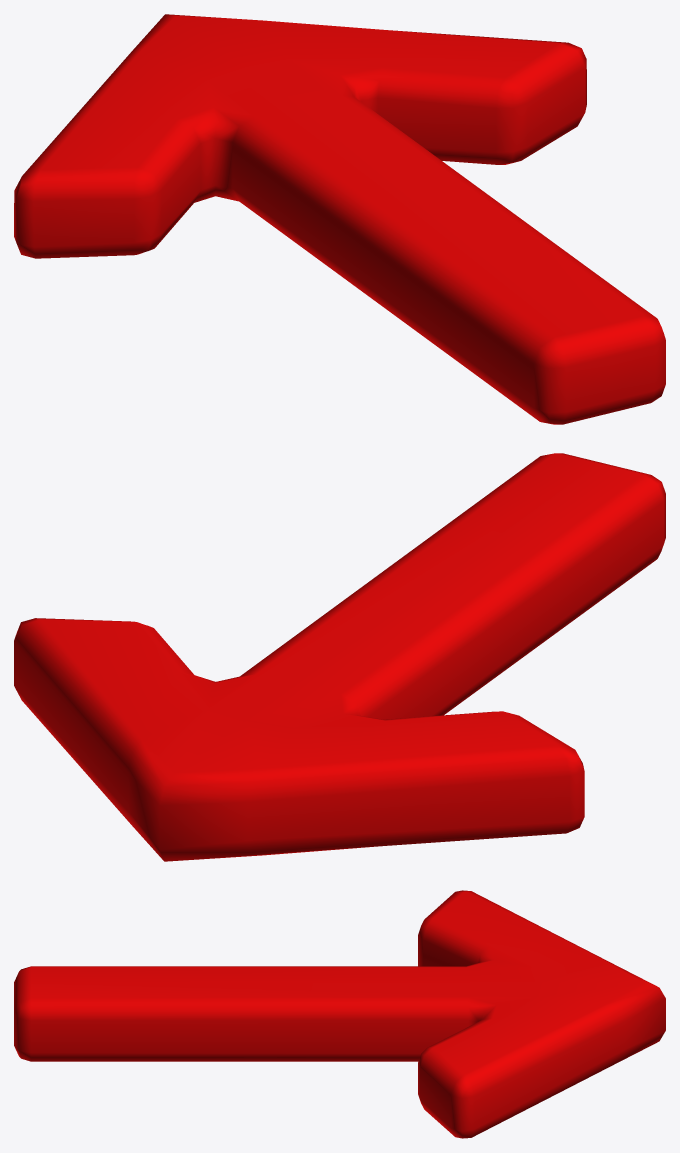
3 views of the same model, one above another, from view 1: azimuth 30°, elevation 25°; view 2: azimuth 150°, elevation 25°; view 3: azimuth 270°, elevation 25° (orthographic). The views are drawn at different scales.
Visible parts, largest first — view 1: pCube1; view 2: pCube1; view 3: pCube1.
Boxes of the visible parts, bbox=[...] form: pCube1: bbox=[14, 14, 665, 424]; pCube1: bbox=[14, 453, 665, 861]; pCube1: bbox=[14, 890, 665, 1138].
Bounding box in the file's own units: 553 × 80.95 × 758.
